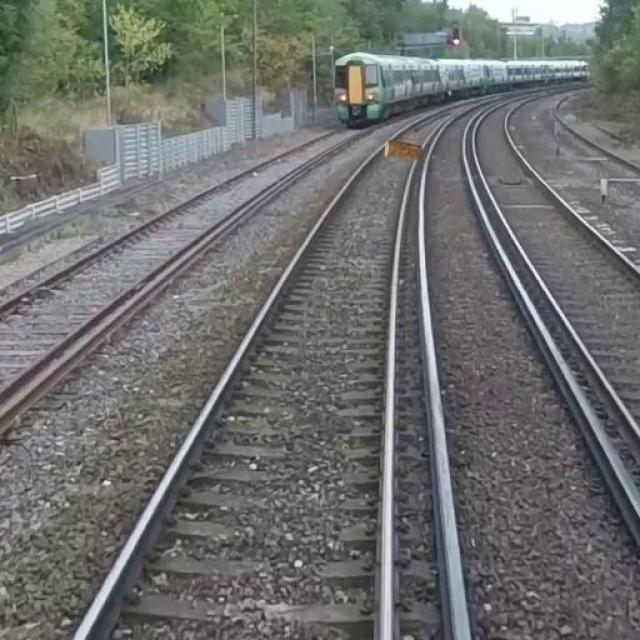Branches: (373, 136, 426, 162)
